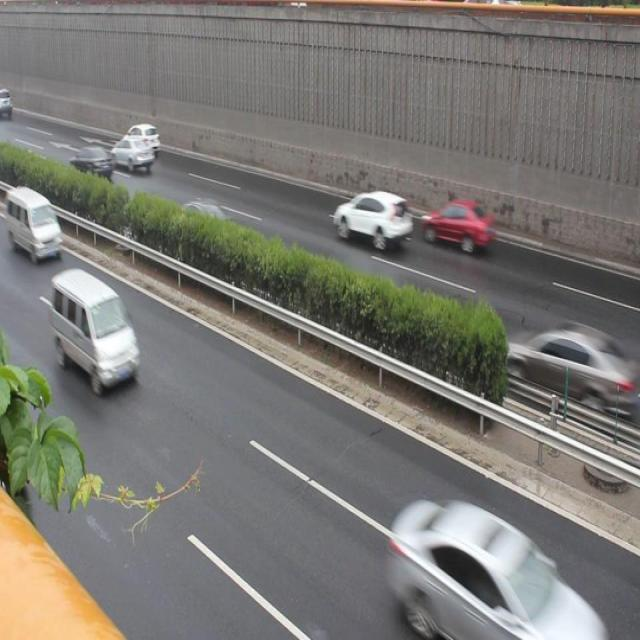car: (389, 493, 591, 640), (500, 309, 640, 416), (331, 188, 413, 252), (420, 194, 494, 254), (176, 195, 230, 238), (110, 134, 152, 174), (69, 142, 113, 180), (126, 121, 160, 154)
truck: (51, 274, 139, 384), (9, 182, 67, 258)
